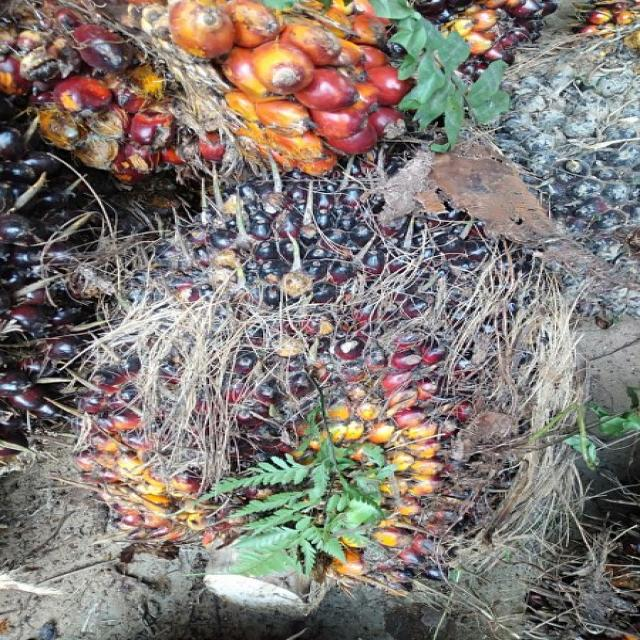fraksi 1: (69, 181, 509, 569)
